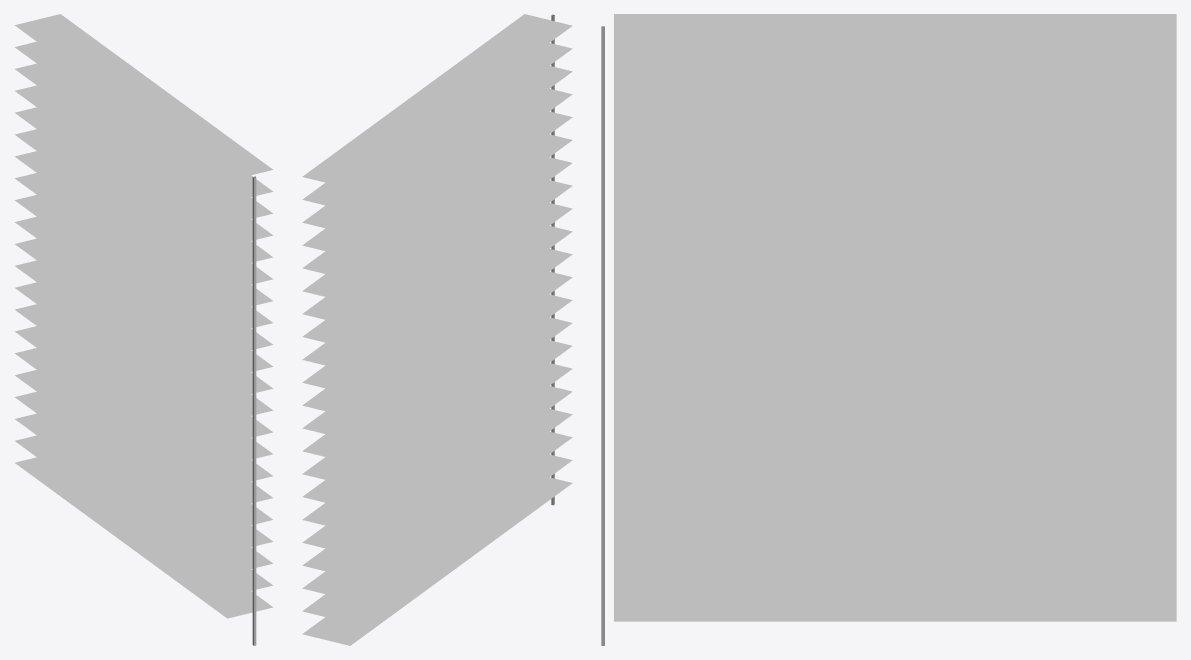
The model's file is pj_01_blind_0.FBX.
The picture shows the model from 3 angles, left to right: view 1: azimuth 30°, elevation 25°; view 2: azimuth 150°, elevation 25°; view 3: azimuth 270°, elevation 25°; orthographic projection. The views are drawn at different scales.
Parts seen in each view (by area): view 1: 0; view 2: 0; view 3: 0.
Boxes of the visible parts, x1=… form: 0: x1=14, y1=14, x2=273, y2=645; 0: x1=302, y1=14, x2=572, y2=645; 0: x1=601, y1=14, x2=1176, y2=645.
Bounding box in the file's own units: 10 × 97 × 81.79.
